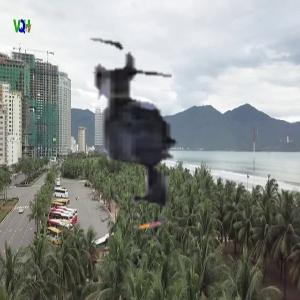drone: (14, 28, 234, 248)
